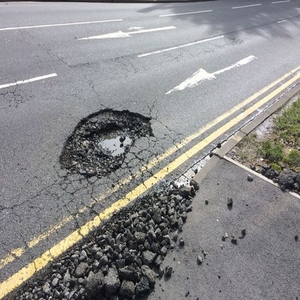pothole: (58, 107, 157, 176)
